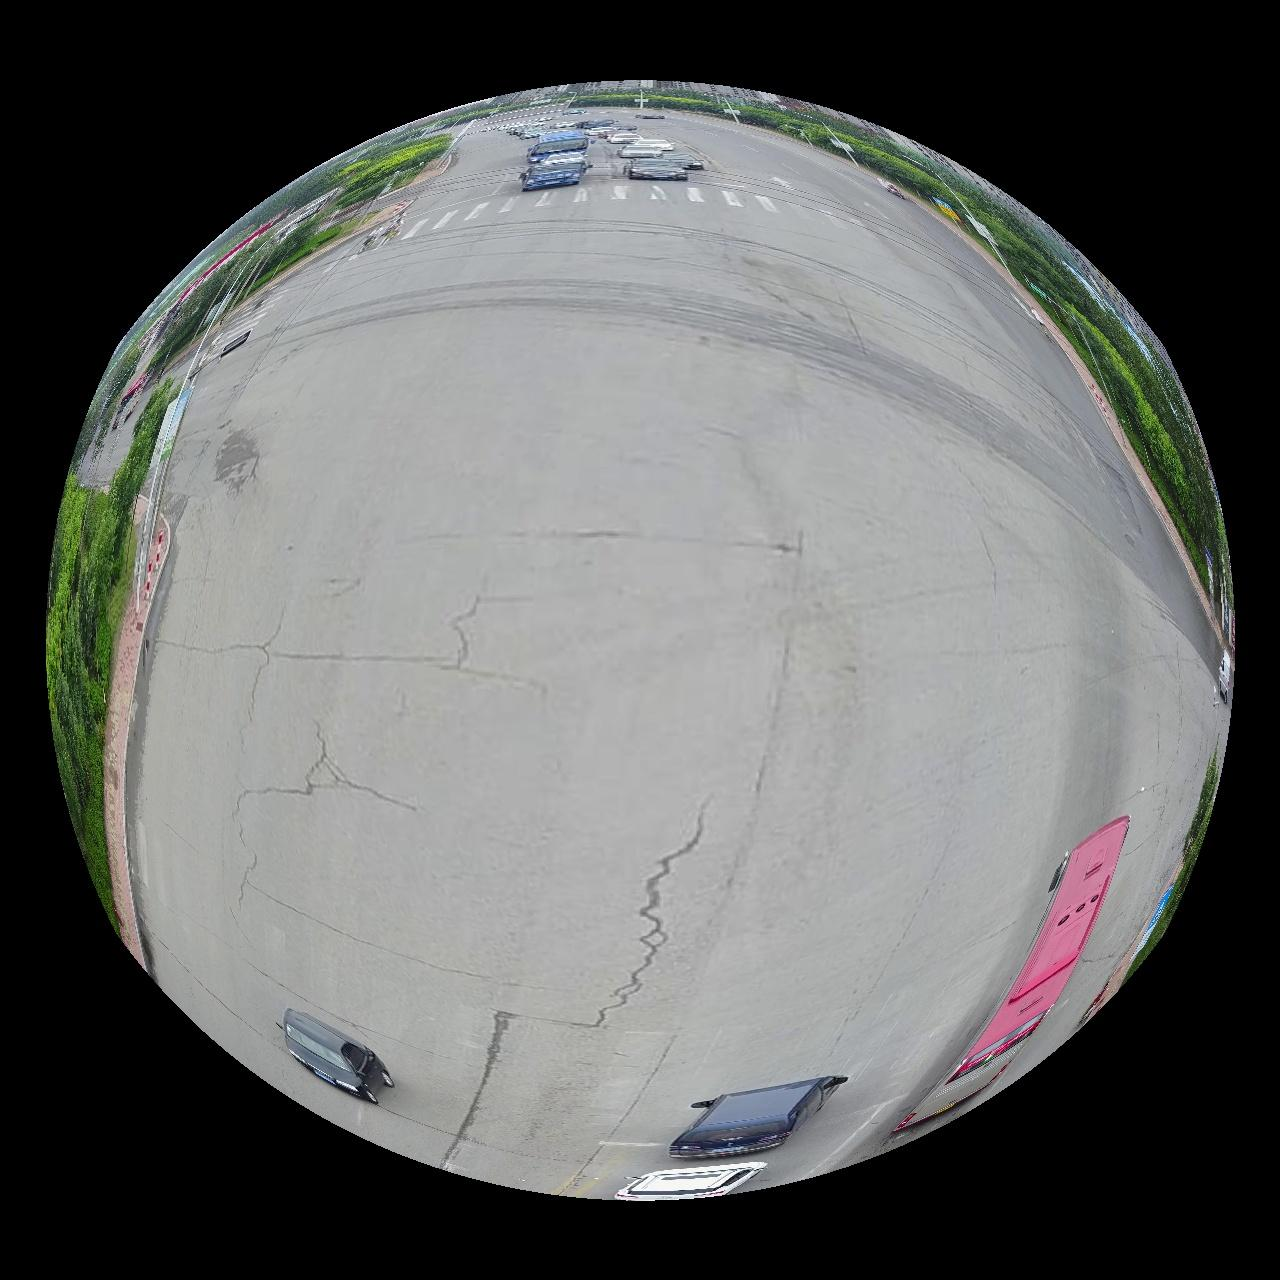cars: (900, 817, 1131, 1131), (670, 1080, 849, 1160), (282, 1012, 394, 1104), (617, 1164, 767, 1203)
trees: (45, 379, 175, 922)
